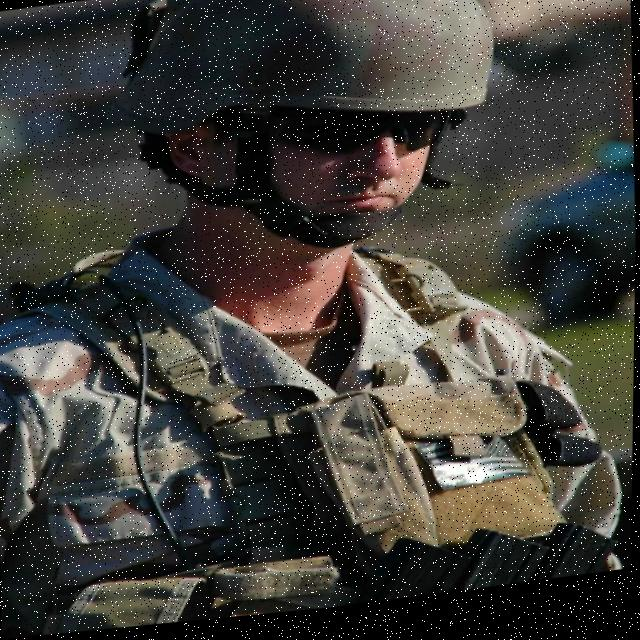illegal_helmet: (113, 0, 520, 283)
